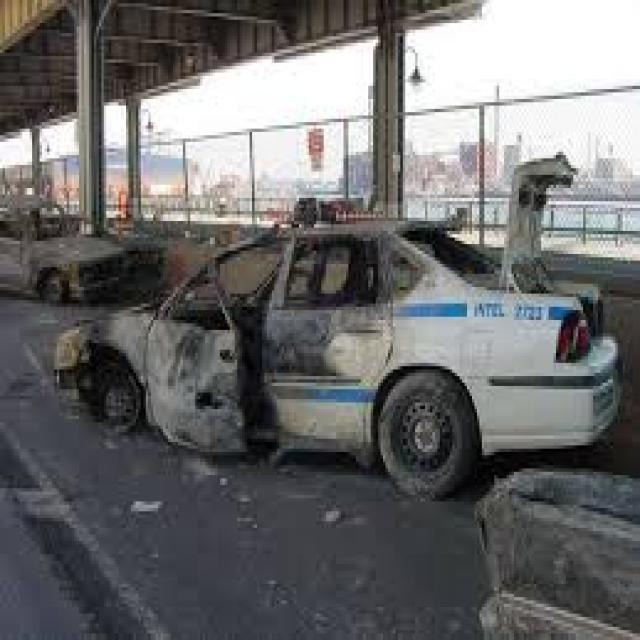severe: (5, 116, 640, 475)
